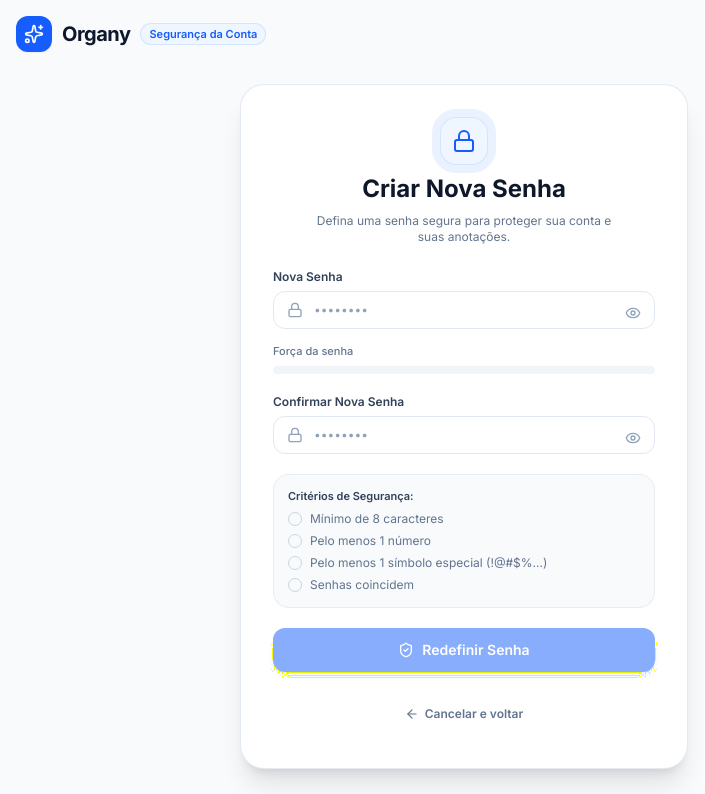
Scenario: ResetPasswordView Component › Validação de Senha em Tempo Real e Indicador de Força › avalia senha média (8+ caracteres e apenas um dos requisitos) com cor amarela e barra em 66%
Digita 8 caracteres com número mas sem símbolo
Type "Senha123" into the password field labelled "Nova Senha" at (464, 310), box [273, 291, 655, 329]
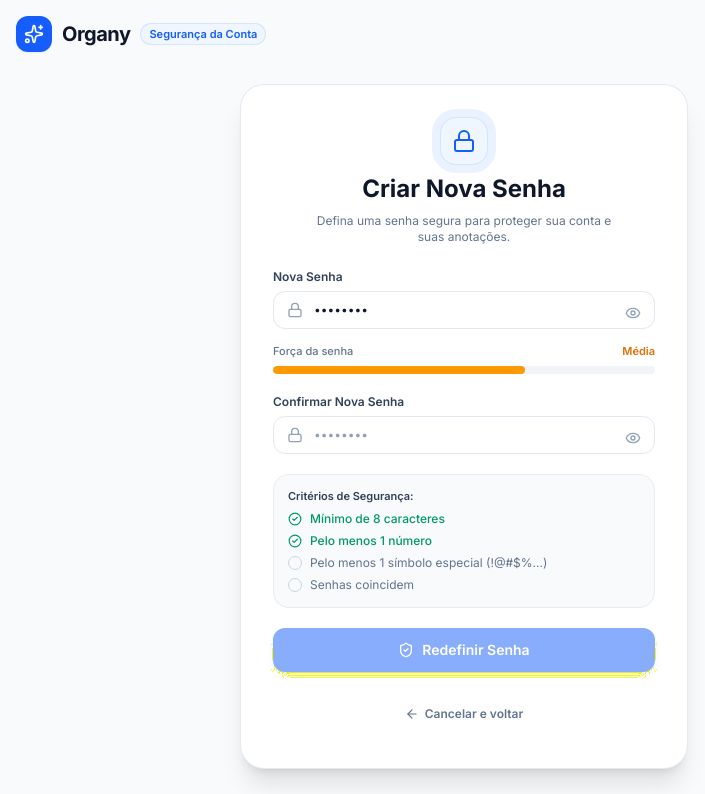
Expected: the button "Redefinir Senha" is disabled, [273, 628, 655, 672]
Expected: the text "Média" is shown, [622, 343, 655, 360]
